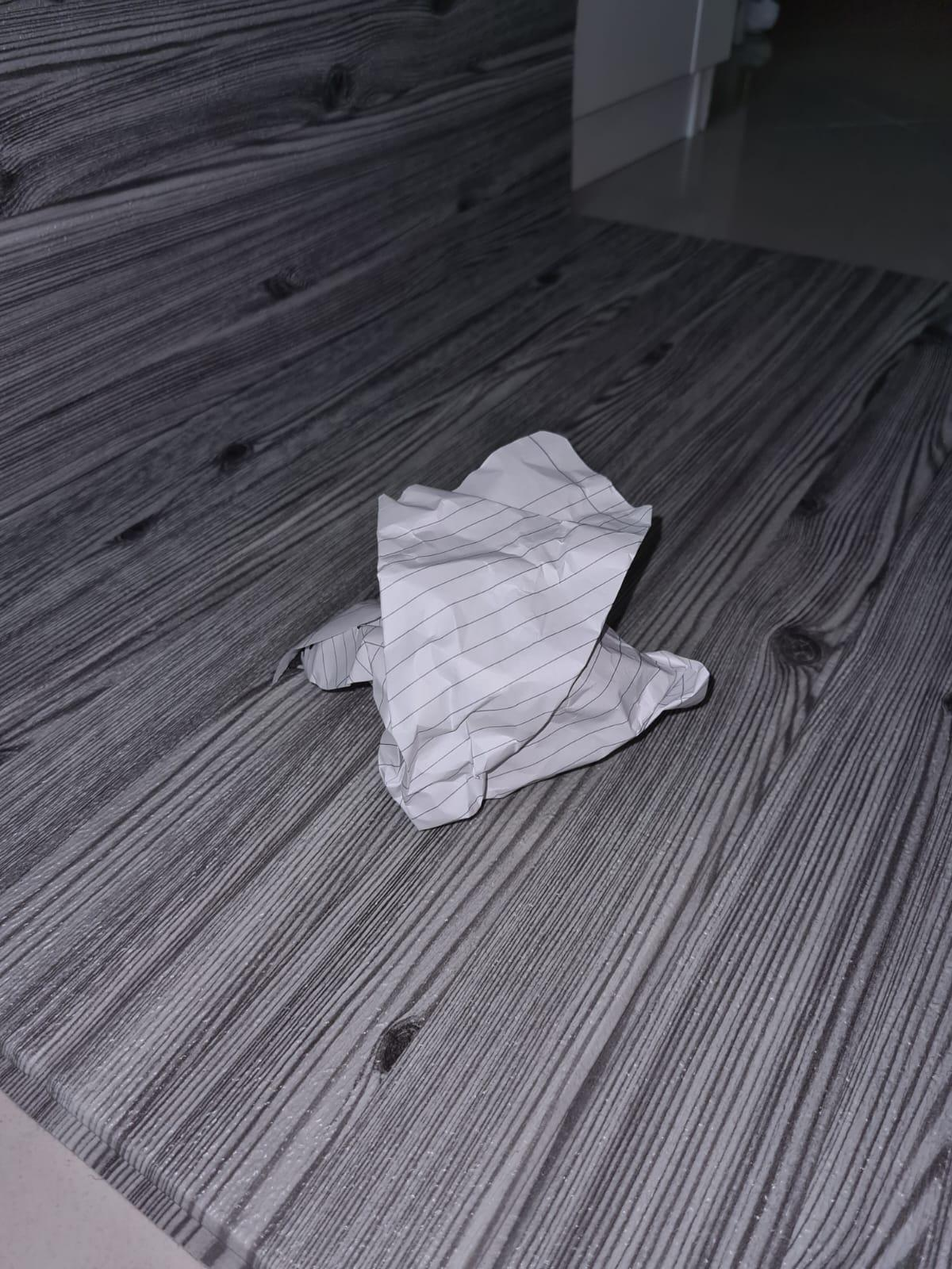paper: (309, 429, 697, 820)
